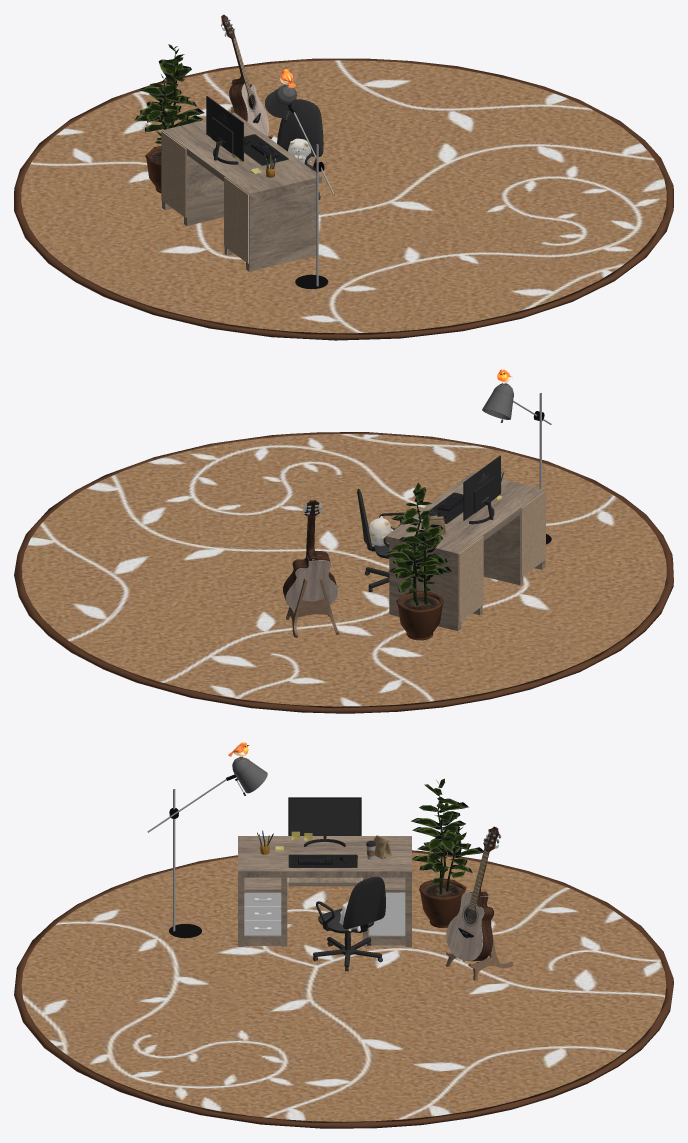
The model's file is workspace_final.gltf.
3 renders of one model, top to bottom at view 1: azimuth 30°, elevation 25°; view 2: azimuth 150°, elevation 25°; view 3: azimuth 270°, elevation 25°, orthographic.
Parts seen in each view (by area): view 1: Rug, Desk, Items, Lamp; view 2: Rug, Items, Desk, Lamp; view 3: Rug, Items, Desk, Lamp.
Boxes of the visible parts, x1,y1,x2,y2 form: Rug: (14, 58, 673, 340); Desk: (161, 112, 321, 271); Items: (134, 14, 323, 199); Lamp: (265, 85, 334, 288); Rug: (14, 432, 673, 713); Items: (283, 455, 502, 640); Desk: (385, 472, 545, 630); Lamp: (482, 383, 551, 544); Rug: (14, 850, 673, 1128); Items: (275, 778, 513, 980); Desk: (238, 836, 411, 946); Lamp: (147, 757, 267, 938).
Bounding box in the file's own units: 4.74 × 1.54 × 4.74.
9 materials, 7 textured.
